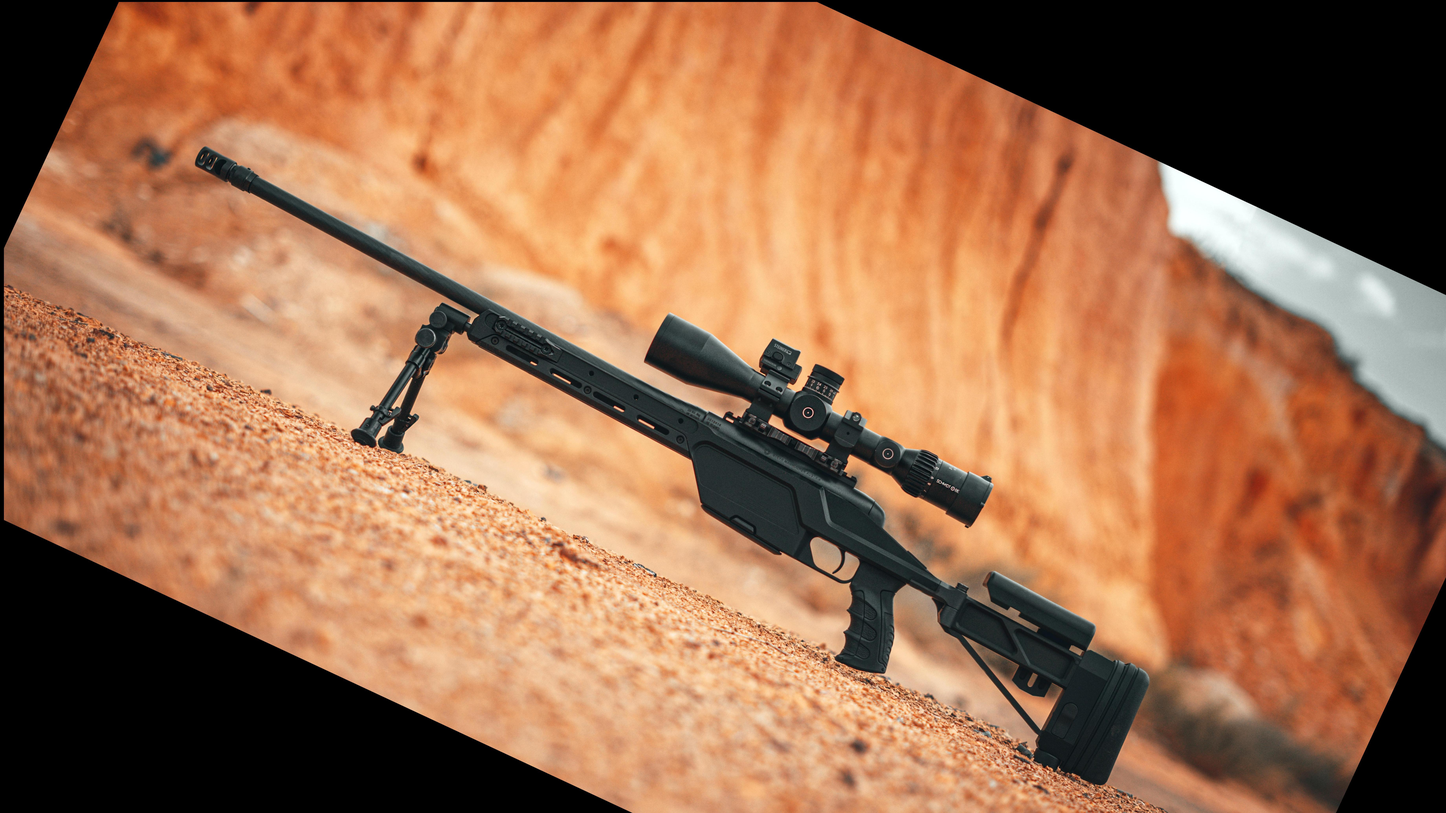larga: (193, 147, 1151, 789)
